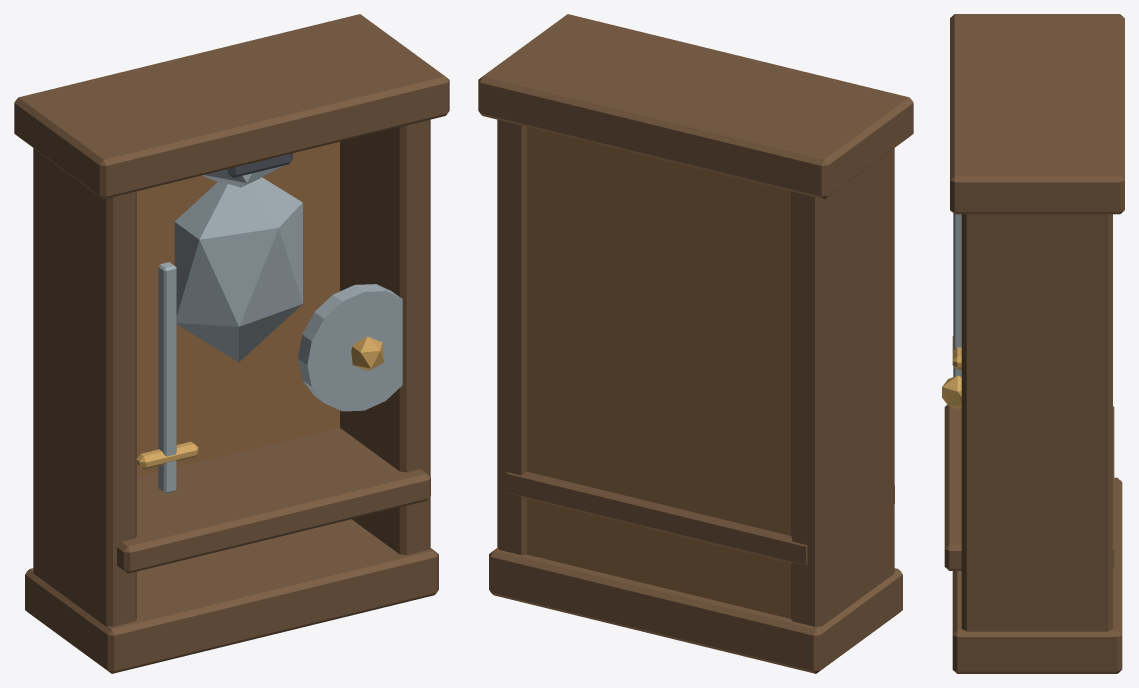
File: equipment.glb
3 views of the same model, side by side, from view 1: azimuth 30°, elevation 25°; view 2: azimuth 150°, elevation 25°; view 3: azimuth 270°, elevation 25° (orthographic). The views are drawn at different scales.
Parts seen in each view (by area): view 1: Structure_HV_oak.007, Structure_HV_armor, Structure_HV_door.001, Structure_HV_brass.003, Structure_HV_iron.002; view 2: Structure_HV_oak.007, Structure_HV_door.001; view 3: Structure_HV_oak.007, Structure_HV_armor, Structure_HV_brass.003.
Part boxes in pixels (x1,y1,x2,y2): Structure_HV_oak.007: [14, 14, 449, 673]; Structure_HV_armor: [158, 165, 402, 493]; Structure_HV_door.001: [137, 142, 339, 477]; Structure_HV_brass.003: [136, 336, 384, 469]; Structure_HV_iron.002: [228, 153, 292, 177]; Structure_HV_oak.007: [478, 14, 913, 673]; Structure_HV_door.001: [527, 127, 790, 618]; Structure_HV_oak.007: [944, 14, 1124, 673]; Structure_HV_armor: [953, 213, 961, 376]; Structure_HV_brass.003: [942, 336, 961, 408].
Bounding box in the file's own units: 1.48 × 2.09 × 0.6895.
